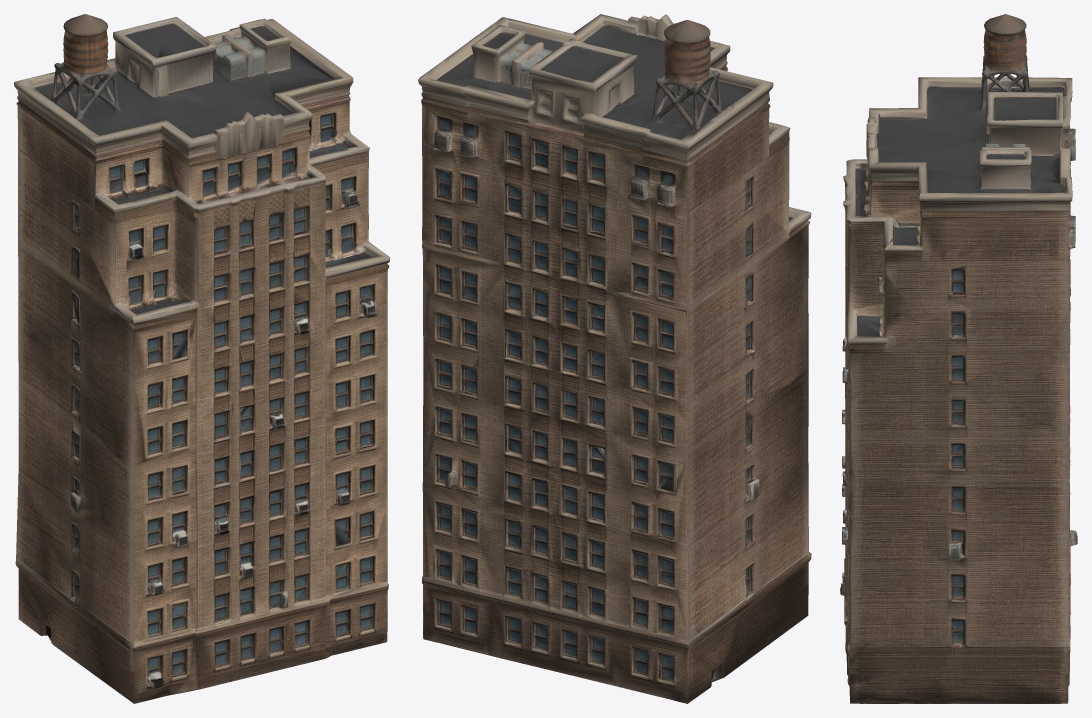
The model's file is tower.glb.
3 renders of one model, left to right at view 1: azimuth 30°, elevation 25°; view 2: azimuth 150°, elevation 25°; view 3: azimuth 270°, elevation 25°, orthographic. The views are drawn at different scales.
Parts seen in each view (by area): view 1: Mesh_0; view 2: Mesh_0; view 3: Mesh_0.
Part boxes in pixels (left/top/right/bottom): Mesh_0: left=14, top=14, right=389, bottom=703; Mesh_0: left=418, top=14, right=811, bottom=703; Mesh_0: left=840, top=14, right=1077, bottom=703.
Size of the model in its own units: 0.8486 by 1.91 by 0.6997.
1 material, 1 textured.
